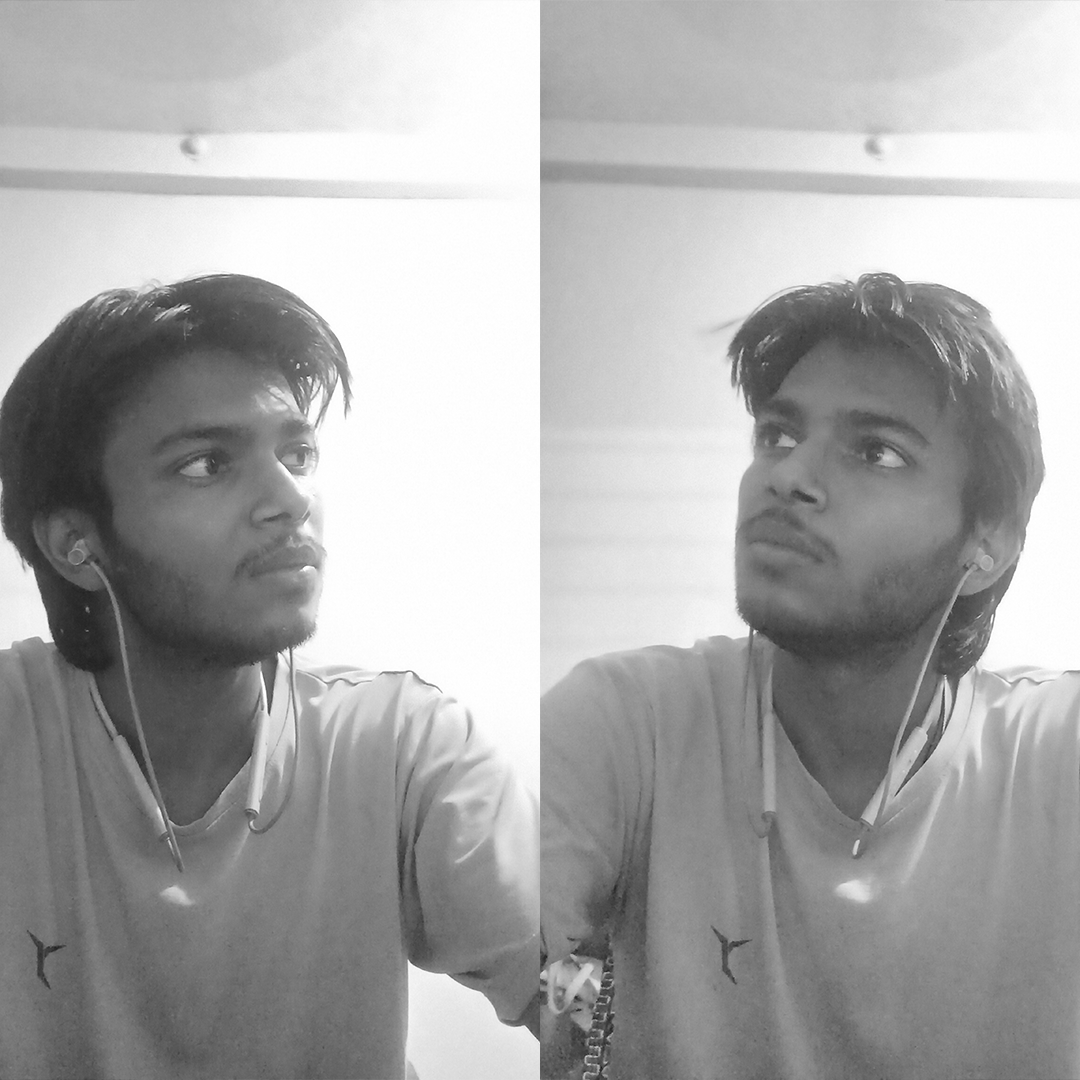distracted: (26, 257, 501, 1007), (624, 242, 1077, 983)
